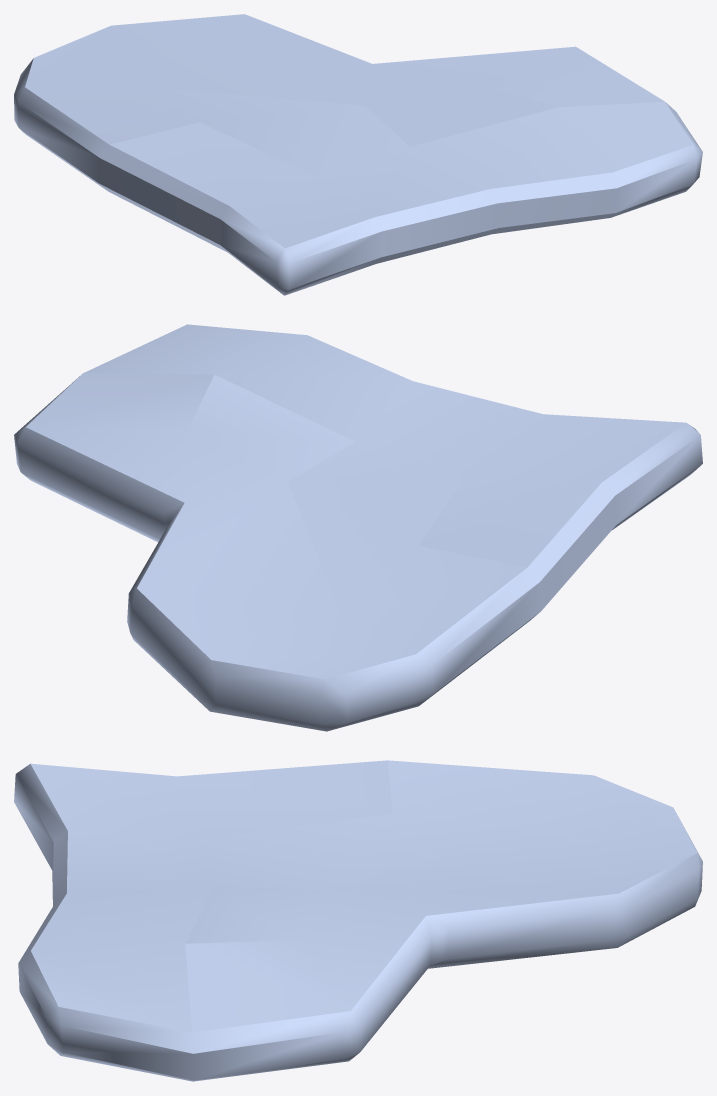
Rendered from floe_ind_1.fbx.
The picture shows the model from 3 angles, top to bottom: view 1: azimuth 30°, elevation 25°; view 2: azimuth 150°, elevation 25°; view 3: azimuth 270°, elevation 25°; orthographic projection. The views are drawn at different scales.
Visible parts, largest first — view 1: Plane.024; view 2: Plane.024; view 3: Plane.024.
Part boxes in pixels (x1,y1,x2,y2): Plane.024: (14,14,702,295); Plane.024: (14,324,702,731); Plane.024: (14,760,702,1081).
Bounding box in the file's own units: 338 × 50.94 × 359.
